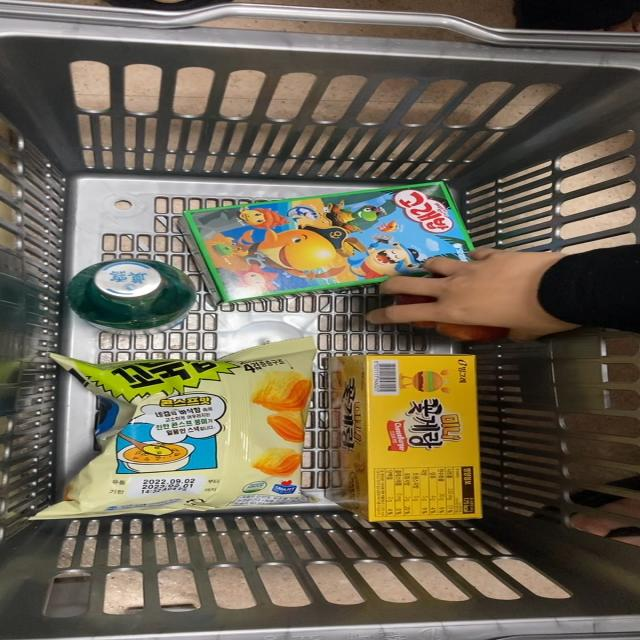ggobukchip: (39, 346, 344, 520)
goraebob: (185, 172, 482, 300)
jinro: (61, 256, 201, 332)
minicrab: (326, 346, 518, 526)
